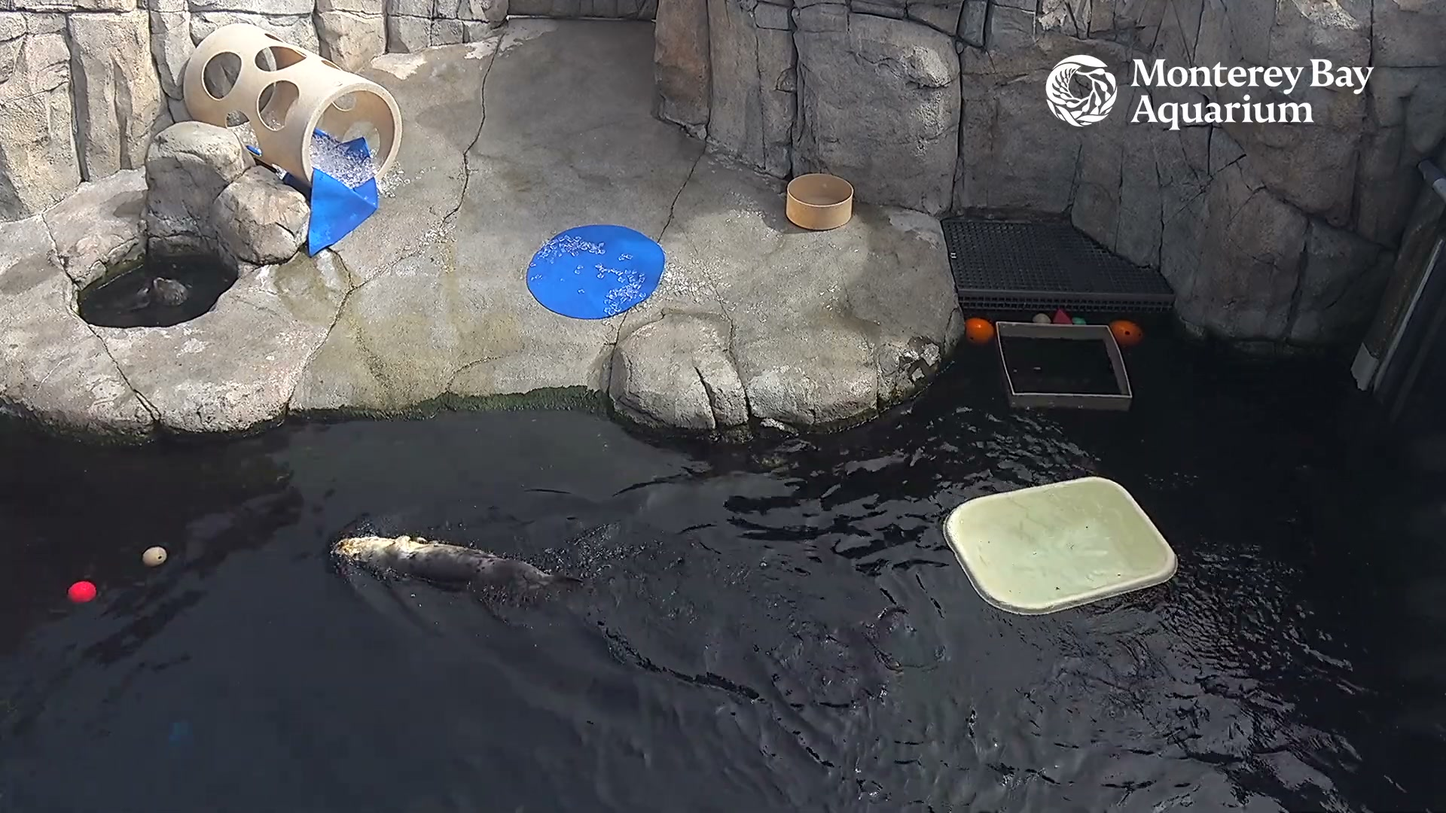Southern Sea Otter: (296, 461, 624, 642), (139, 246, 263, 308)
